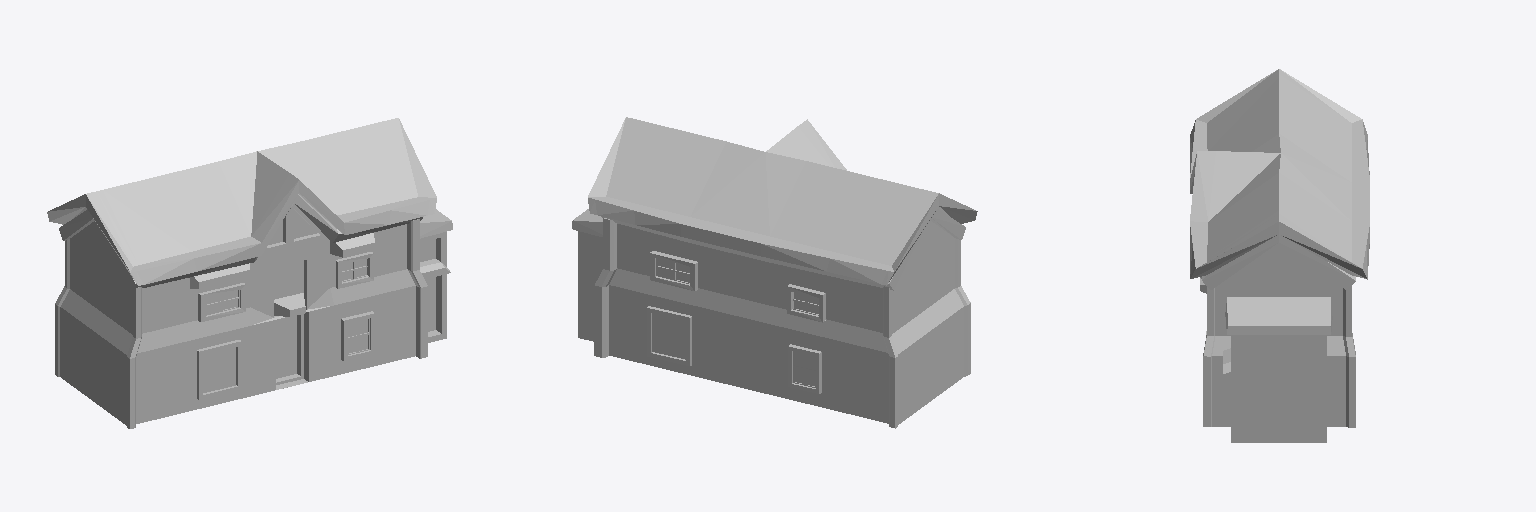
Rendered from House-Light.obj.
The picture shows the model from 3 angles: view 1: azimuth 30°, elevation 25°; view 2: azimuth 150°, elevation 25°; view 3: azimuth 270°, elevation 25°; orthographic projection.
Parts seen in each view (by area): view 1: Cube; view 2: Cube; view 3: Cube.
Part boxes in pixels (x1,y1,x2,y2): Cube: (47,118,452,428); Cube: (572,117,977,428); Cube: (1190,69,1369,442).
Size of the model in its own units: 6.19 by 3.68 by 2.84.